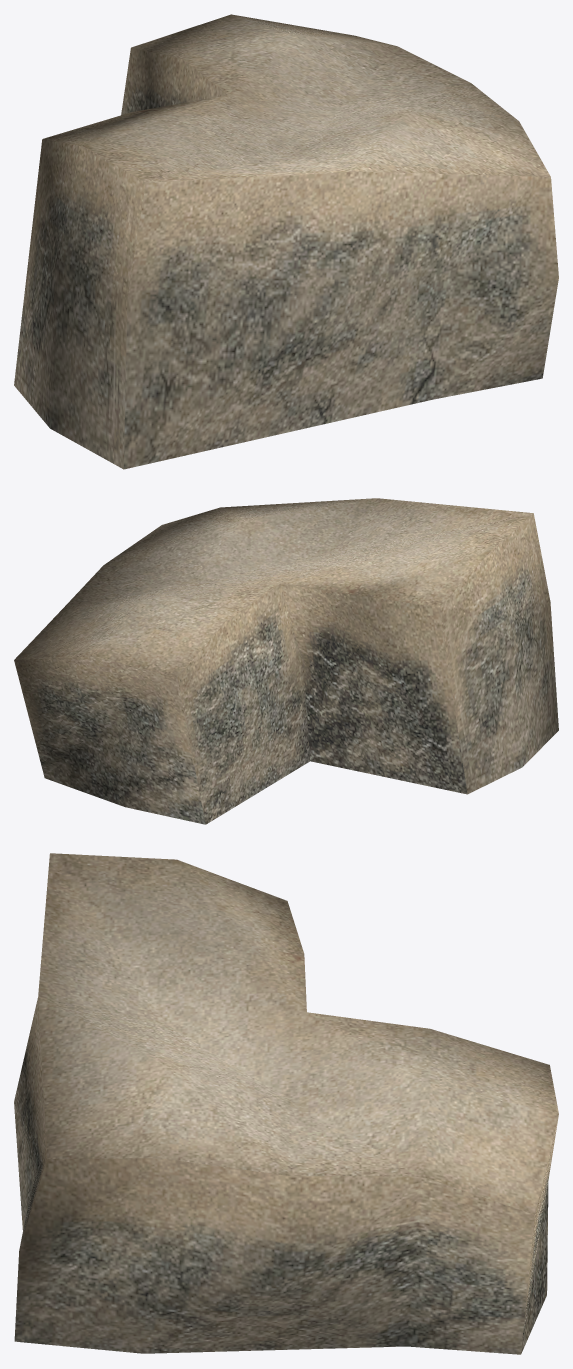
File: desert-bigstone01_lod_01.fbx
3 views of the same model, one above another, from view 1: azimuth 30°, elevation 25°; view 2: azimuth 150°, elevation 25°; view 3: azimuth 270°, elevation 25° (orthographic). The views are drawn at different scales.
Parts seen in each view (by area): view 1: desert-bigstone; view 2: desert-bigstone; view 3: desert-bigstone.
Part boxes in pixels (x1,y1,x2,y2): desert-bigstone: [14, 14, 558, 469]; desert-bigstone: [14, 498, 558, 824]; desert-bigstone: [14, 853, 558, 1354].
Bounding box in the file's own units: 7.09 × 3.9 × 6.6.
